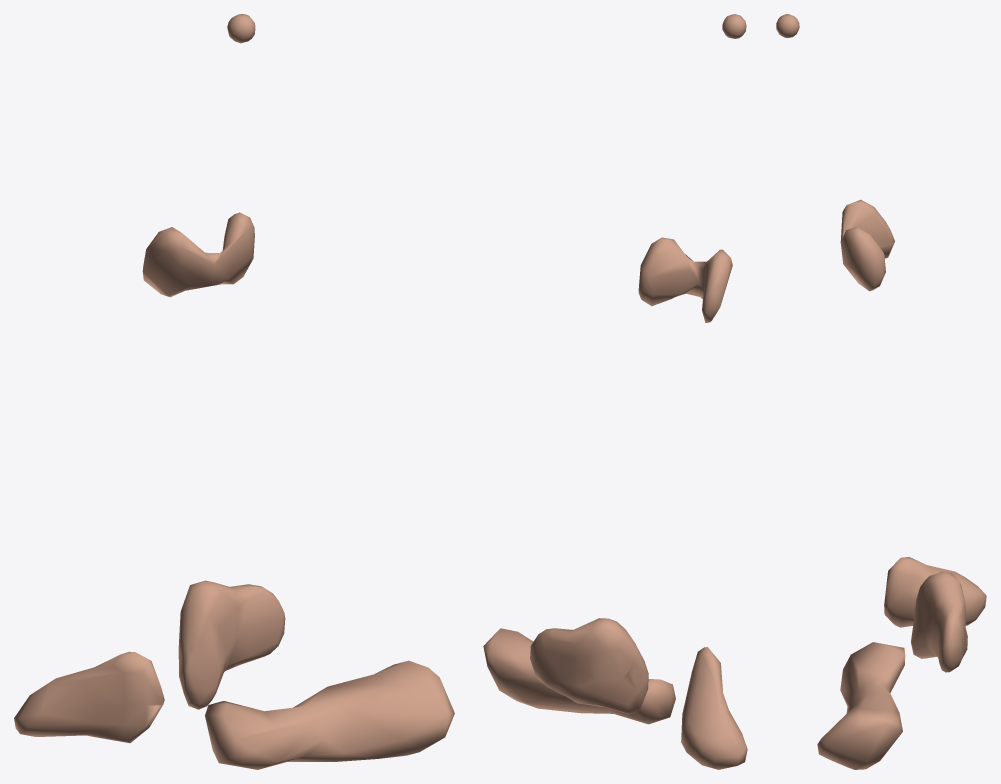
The model's file is pediatric_neonate_male.endocrine.LOD2.glb.
The picture shows the model from 3 angles, left to right: view 1: azimuth 30°, elevation 25°; view 2: azimuth 150°, elevation 25°; view 3: azimuth 270°, elevation 25°; orthographic projection. The views are drawn at different scales.
Visible parts, largest first — view 1: PEDIATRIC.NEONATE.MALE.ENDOCRINE.PANCREAS, PEDIATRIC.NEONATE.MALE.ENDOCRINE.ADRENAL.R, PEDIATRIC.NEONATE.MALE.ENDOCRINE.ADRENAL.L, PEDIATRIC.NEONATE.MALE.ENDOCRINE.THYROID; view 2: PEDIATRIC.NEONATE.MALE.ENDOCRINE.ADRENAL.L, PEDIATRIC.NEONATE.MALE.ENDOCRINE.PANCREAS, PEDIATRIC.NEONATE.MALE.ENDOCRINE.ADRENAL.R, PEDIATRIC.NEONATE.MALE.ENDOCRINE.THYROID, PEDIATRIC.NEONATE.MALE.ENDOCRINE.PITUITARY_GLAND; view 3: PEDIATRIC.NEONATE.MALE.ENDOCRINE.PANCREAS, PEDIATRIC.NEONATE.MALE.ENDOCRINE.ADRENAL.L, PEDIATRIC.NEONATE.MALE.ENDOCRINE.THYROID, PEDIATRIC.NEONATE.MALE.ENDOCRINE.ADRENAL.R, PEDIATRIC.NEONATE.MALE.ENDOCRINE.PITUITARY_GLAND.
Boxes of the visible parts, bbox=[...] form: PEDIATRIC.NEONATE.MALE.ENDOCRINE.PANCREAS: bbox=[205, 660, 454, 769]; PEDIATRIC.NEONATE.MALE.ENDOCRINE.ADRENAL.R: bbox=[14, 651, 164, 743]; PEDIATRIC.NEONATE.MALE.ENDOCRINE.ADRENAL.L: bbox=[178, 580, 285, 709]; PEDIATRIC.NEONATE.MALE.ENDOCRINE.THYROID: bbox=[142, 212, 254, 297]; PEDIATRIC.NEONATE.MALE.ENDOCRINE.ADRENAL.L: bbox=[530, 618, 648, 714]; PEDIATRIC.NEONATE.MALE.ENDOCRINE.PANCREAS: bbox=[483, 628, 675, 724]; PEDIATRIC.NEONATE.MALE.ENDOCRINE.ADRENAL.R: bbox=[681, 647, 747, 769]; PEDIATRIC.NEONATE.MALE.ENDOCRINE.THYROID: bbox=[638, 237, 732, 323]; PEDIATRIC.NEONATE.MALE.ENDOCRINE.PITUITARY_GLAND: bbox=[722, 14, 746, 38]; PEDIATRIC.NEONATE.MALE.ENDOCRINE.PANCREAS: bbox=[817, 642, 905, 769]; PEDIATRIC.NEONATE.MALE.ENDOCRINE.ADRENAL.L: bbox=[911, 572, 967, 672]; PEDIATRIC.NEONATE.MALE.ENDOCRINE.THYROID: bbox=[840, 199, 894, 291]; PEDIATRIC.NEONATE.MALE.ENDOCRINE.ADRENAL.R: bbox=[884, 557, 986, 627]; PEDIATRIC.NEONATE.MALE.ENDOCRINE.PITUITARY_GLAND: bbox=[776, 14, 799, 37].
Size of the model in its own units: 0.0852 by 0.1856 by 0.0527.
